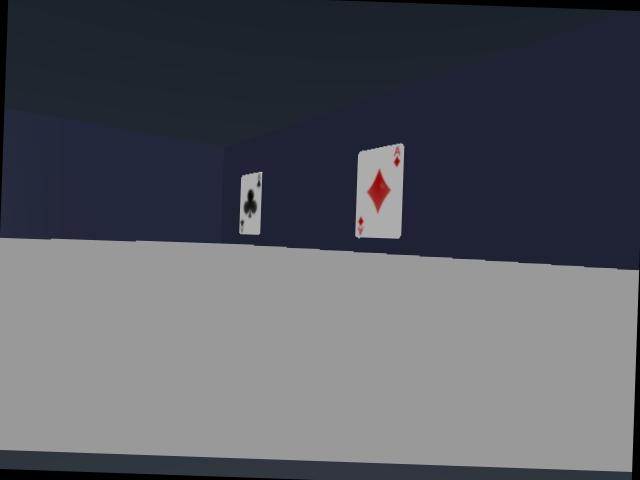club: (239, 173, 261, 234)
diamond: (355, 144, 403, 238)
